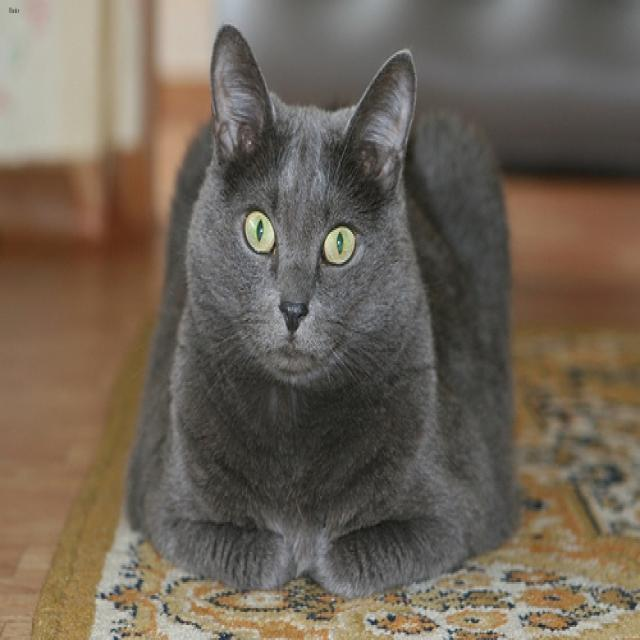Russian_Blue: (189, 25, 415, 371)
